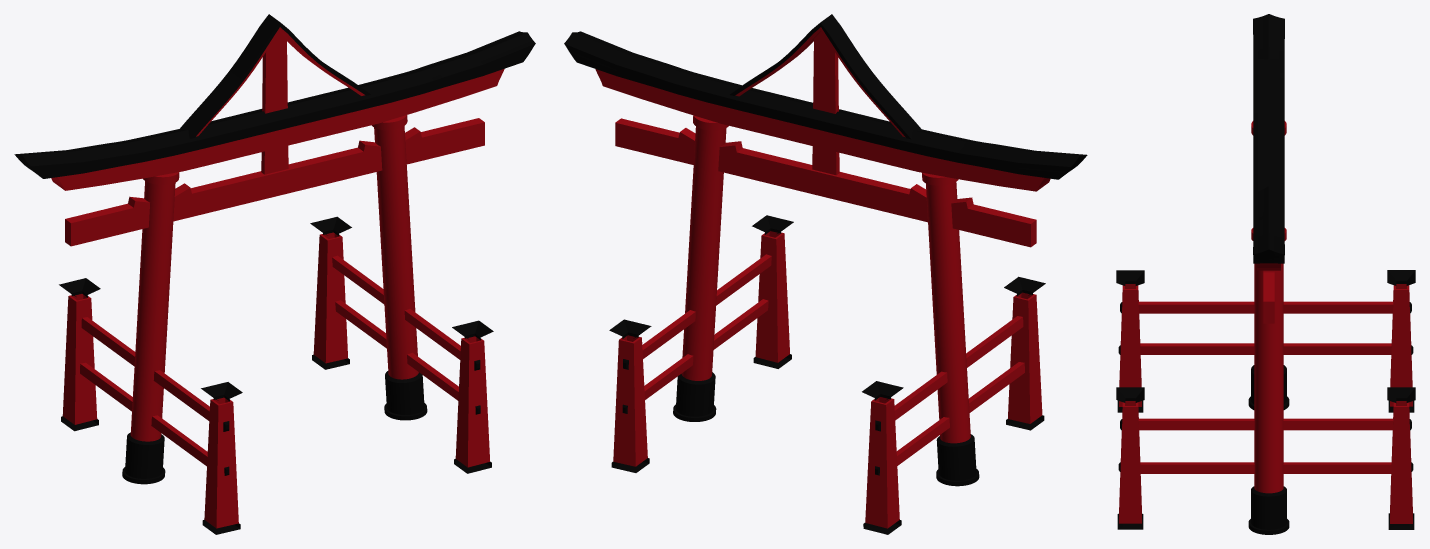
The model's file is Ryoubu_3.fbx.
3 renders of one model, left to right at view 1: azimuth 30°, elevation 25°; view 2: azimuth 150°, elevation 25°; view 3: azimuth 270°, elevation 25°, orthographic. The views are drawn at different scales.
Visible parts, largest first — view 1: Cube.049; view 2: Cube.049; view 3: Cube.049.
Boxes of the visible parts, box(x1,y1,x2,y2) form: Cube.049: box(14, 14, 535, 534); Cube.049: box(564, 14, 1087, 534); Cube.049: box(1116, 14, 1415, 534).
Bounding box in the file's own units: 1943 × 1563 × 1044.
